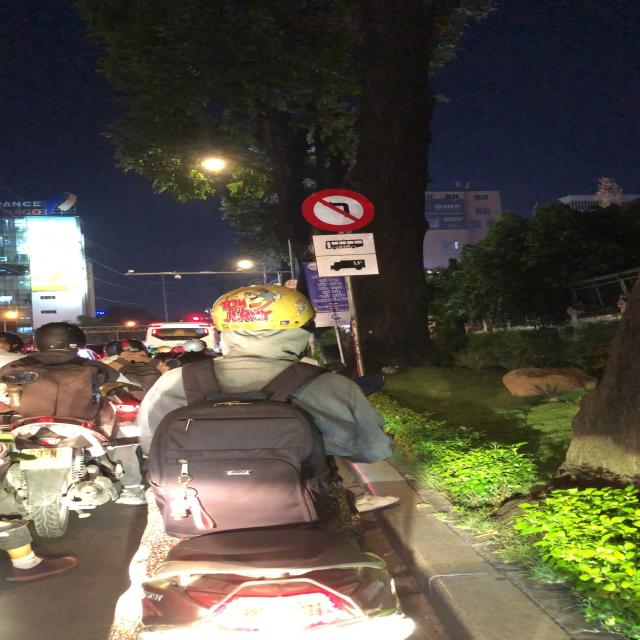Bien bao cam re trai: (296, 186, 377, 234)
